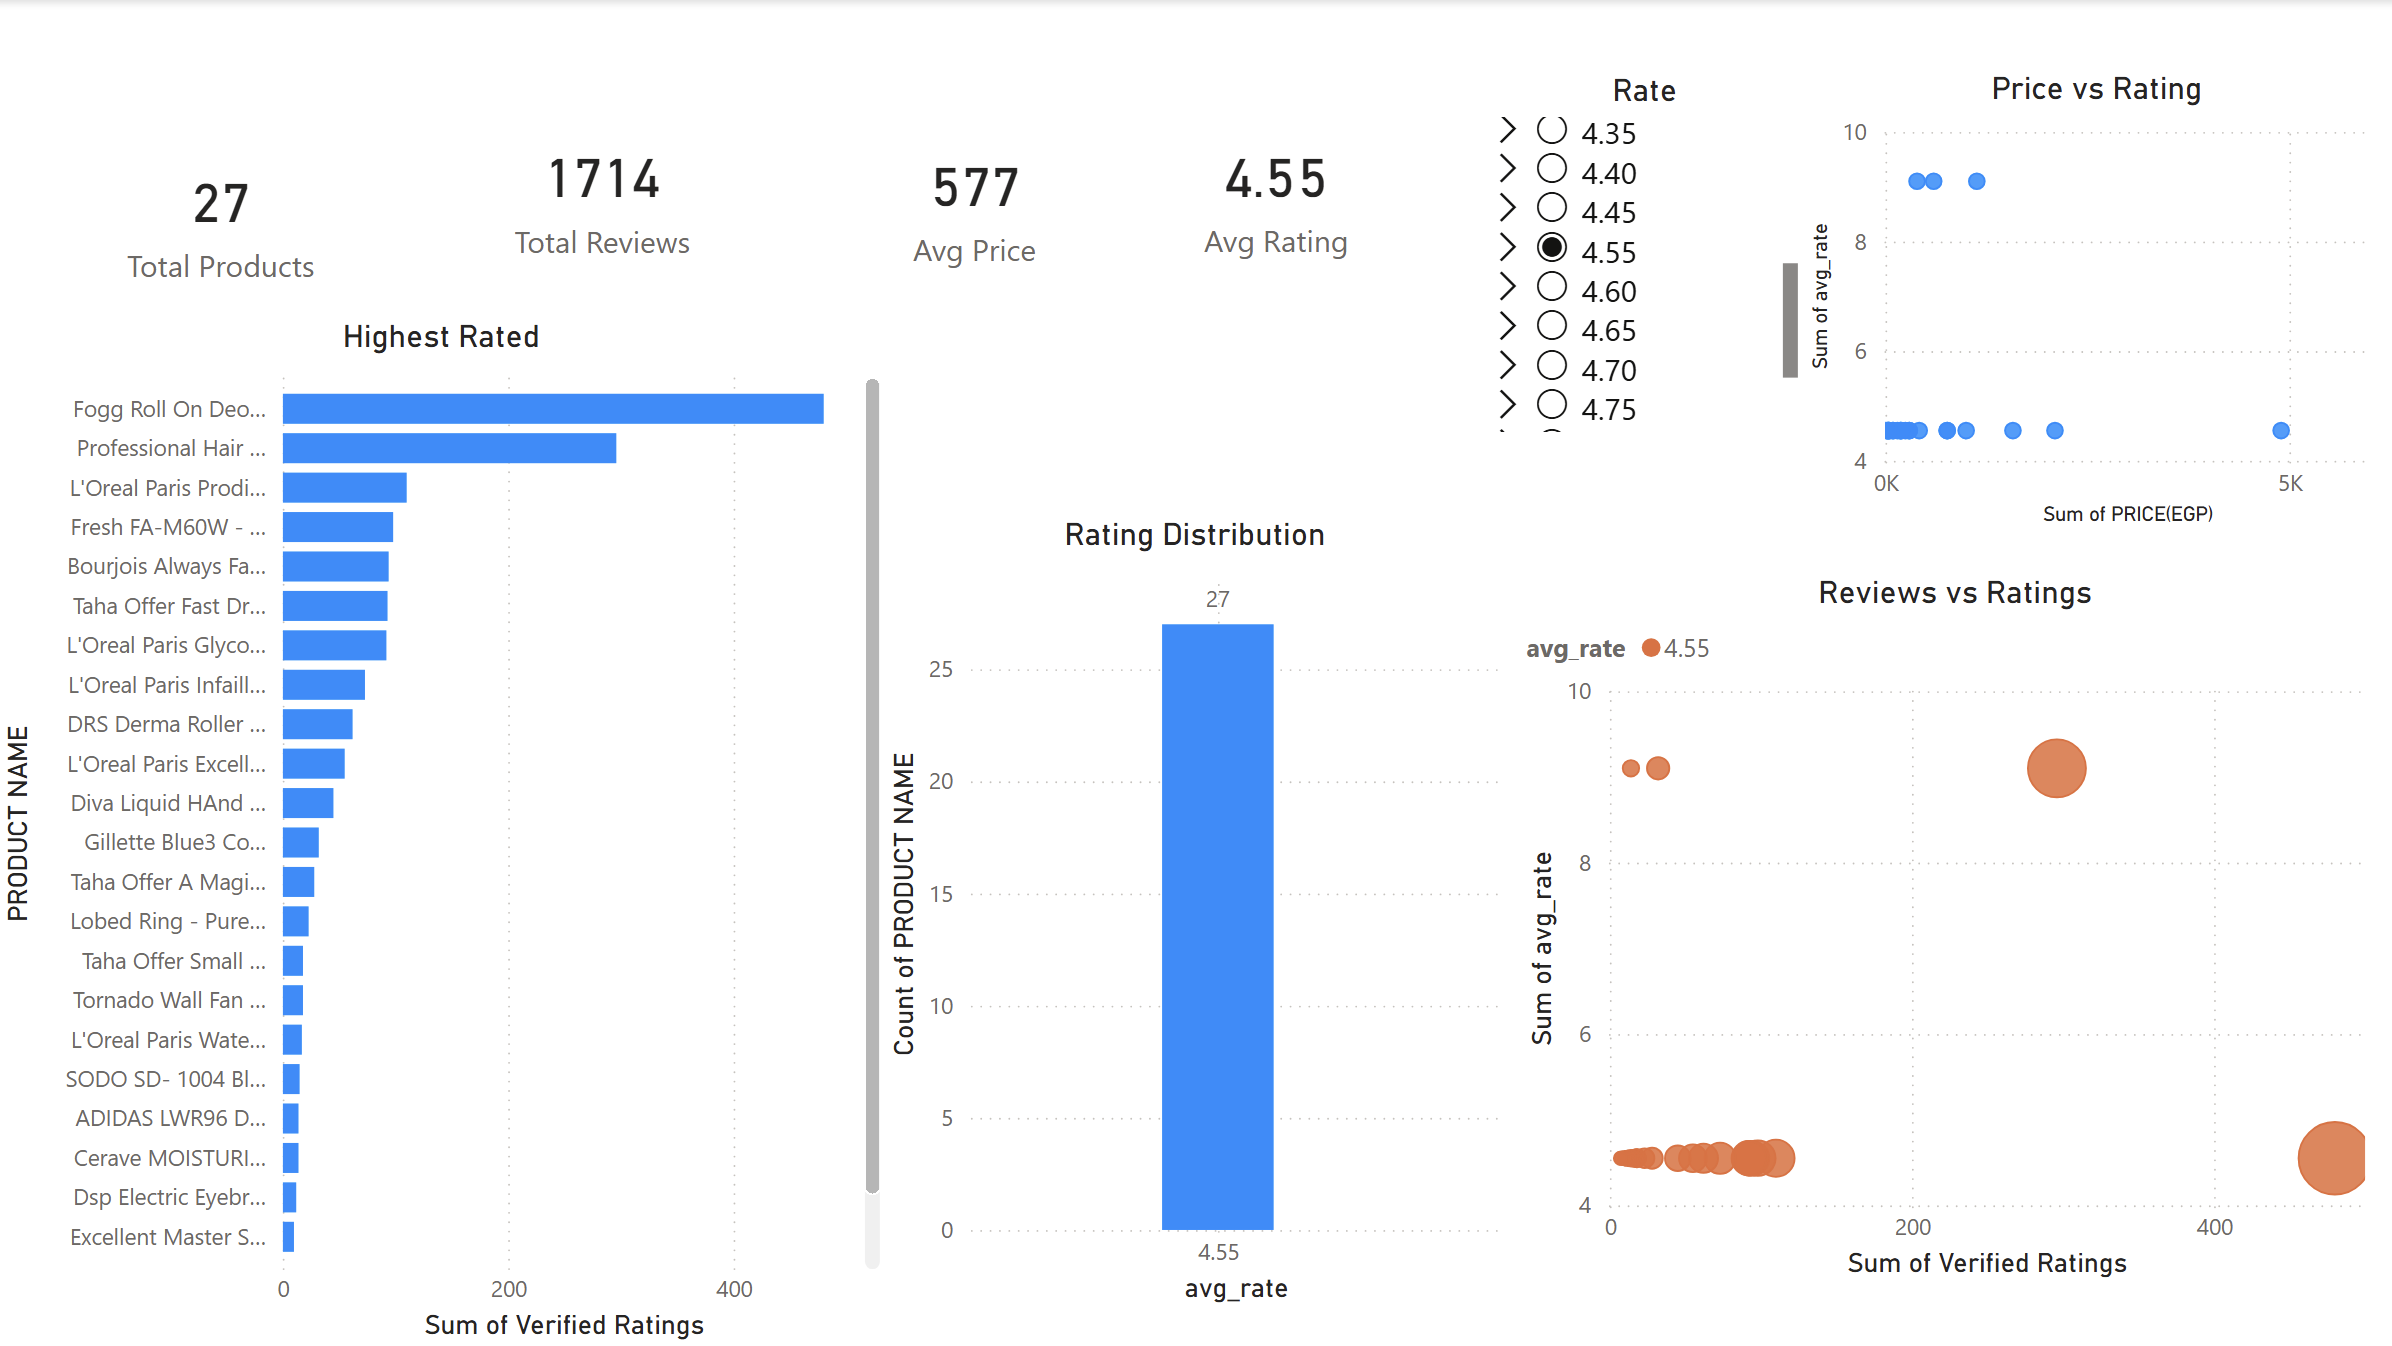

The page's visual inventory and layout, read from the dashboard file:
{"tool":"powerbi","page":{"name":"Page 1","canvas":[1280,720],"ordinal":0},"visuals":[{"type":"card","fields":{"Values":["jumia_products_sql.Total Products"]},"box":[0,46.3,243,142.4],"z":0},{"type":"card","fields":{"Values":["jumia_products_sql.Total Reviews"]},"box":[200.2,30.1,248.8,148.1],"z":1000},{"type":"card","fields":{"Values":["jumia_products_sql.Avg Price"]},"box":[417.8,38.2,210.6,140],"z":2000},{"type":"card","fields":{"Values":["jumia_products_sql.Avg Rating"]},"box":[594,17.9,180.5,170.9],"z":3000},{"type":"clusteredColumnChart","title":"Rating Distribution","fields":{"Y":["jumia_products_sql.PRODUCT NAME"],"Category":["jumia_products_sql.avg_rate"]},"box":[472.1,274.9,337,424.3],"z":4000},{"type":"clusteredBarChart","title":"Highest Rated","fields":{"Category":["jumia_products_sql.PRODUCT NAME"],"Y":["jumia_products_sql.Verified Ratings"]},"box":[0,169.7,478.1,549.8],"z":5000},{"type":"listSlicer","title":"Rate","fields":{"Values":["jumia_products_sql.avg_rate","jumia_products_sql.PRICE(EGP)"]},"box":[793.6,38.2,174.5,199.6],"z":6000},{"type":"scatterChart","title":"Reviews vs Ratings","fields":{"X":["jumia_products_sql.Verified Ratings"],"Y":["jumia_products_sql.avg_rate"],"Size":["jumia_products_sql.Verified Ratings"],"Category":["jumia_products_sql.PRODUCT NAME"]},"box":[812.7,306,467.3,380.1],"z":7000},{"type":"scatterChart","title":"Price vs Rating","fields":{"X":["jumia_products_sql.PRICE(EGP)"],"Y":["jumia_products_sql.avg_rate"],"Category":["jumia_products_sql.PRODUCT NAME"]},"box":[964.5,37,315.5,247.4],"z":8000}]}

Visuals, with their boxes in screenshot pixels (x1, y1, x2, y2), scaled from the page's 1280x720 canvas onto the 2392x1346 screenshot:
card - jumia_products_sql.Total Products: bbox(0, 87, 454, 353)
card - jumia_products_sql.Total Reviews: bbox(374, 56, 839, 333)
card - jumia_products_sql.Avg Price: bbox(781, 71, 1174, 333)
card - jumia_products_sql.Avg Rating: bbox(1110, 33, 1447, 353)
"Rating Distribution" clusteredColumnChart: bbox(882, 514, 1512, 1307)
"Highest Rated" clusteredBarChart: bbox(0, 317, 893, 1345)
"Rate" listSlicer: bbox(1483, 71, 1809, 445)
"Reviews vs Ratings" scatterChart: bbox(1519, 572, 2391, 1283)
"Price vs Rating" scatterChart: bbox(1802, 69, 2391, 532)
